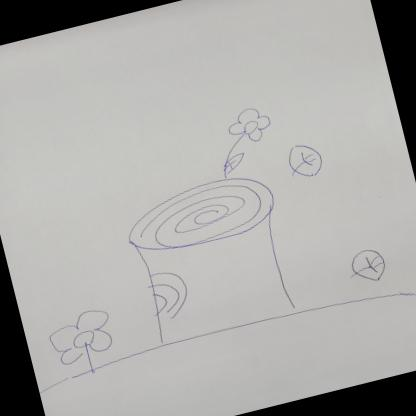knot: (118, 167, 282, 261), (148, 266, 193, 322)
root_none: (124, 280, 350, 398)
trunk_straight: (140, 224, 294, 335)
